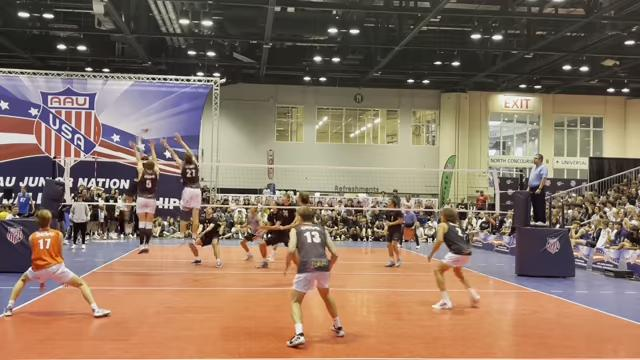muro: (160, 129, 207, 244), (126, 138, 160, 256)
